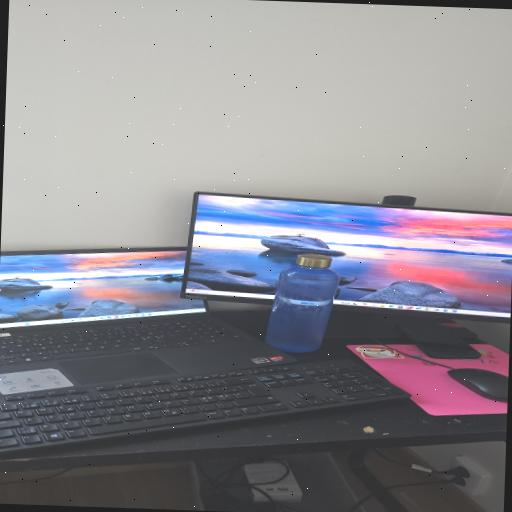bottle: (271, 248, 342, 360)
phone: (409, 328, 494, 362)
